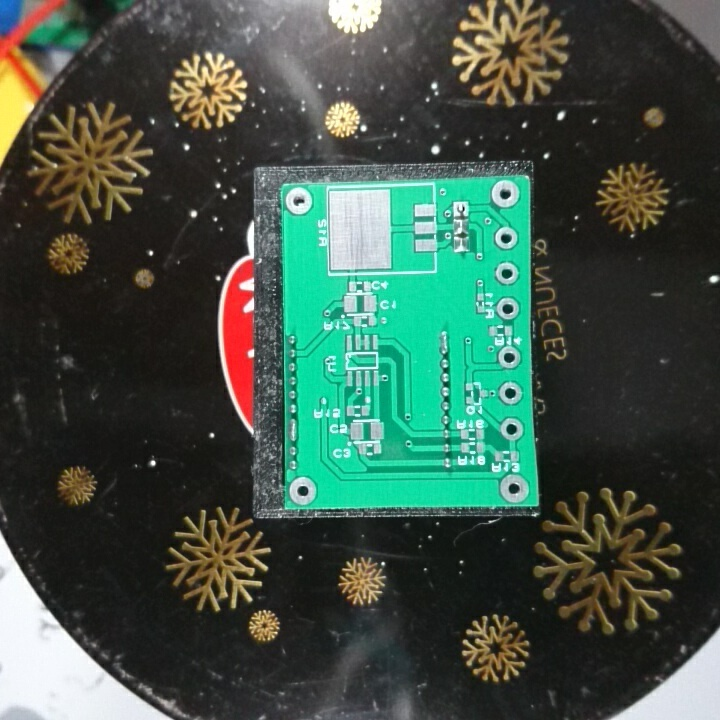F: (286, 472, 320, 506), (499, 470, 531, 505), (488, 176, 519, 212), (284, 186, 314, 218), (496, 415, 527, 443), (493, 224, 521, 253), (497, 379, 524, 409), (493, 260, 521, 288), (494, 295, 522, 323), (496, 344, 524, 371), (450, 197, 472, 220)
P: (436, 327, 454, 358), (285, 415, 304, 443)
